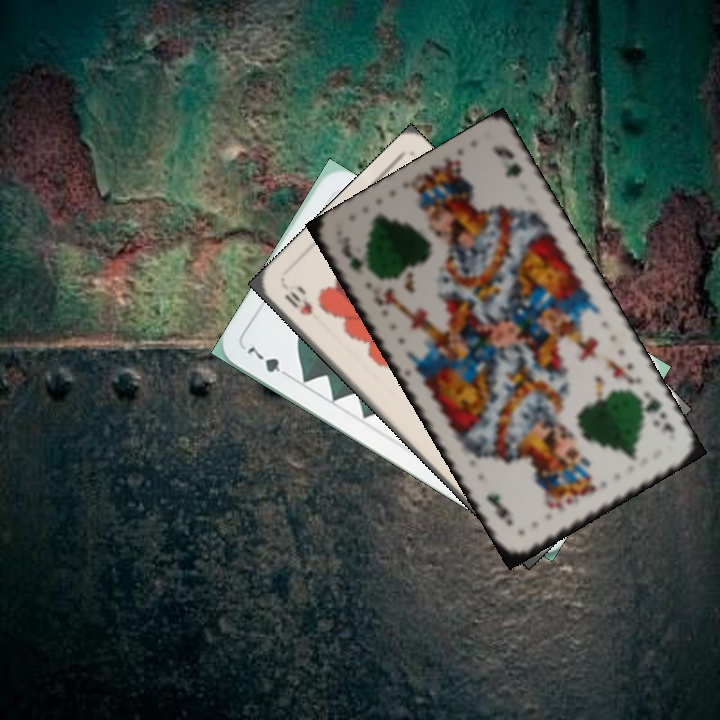G7: (243, 341, 295, 382)
GK: (633, 392, 679, 438), (342, 250, 375, 279)
H10: (280, 287, 315, 318)
